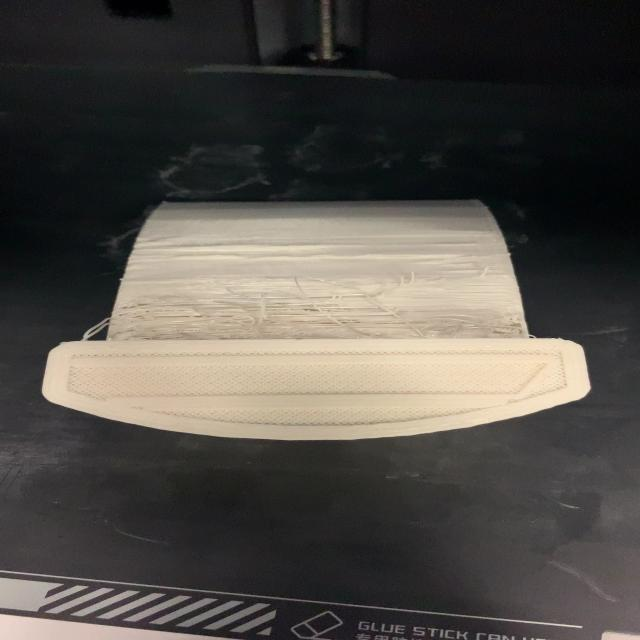spaghetti: (59, 292, 548, 342)
